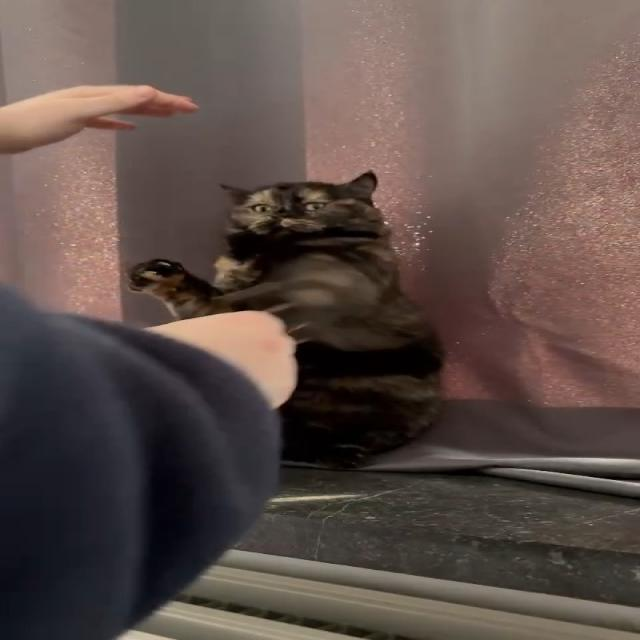authorized: (127, 169, 445, 469)
